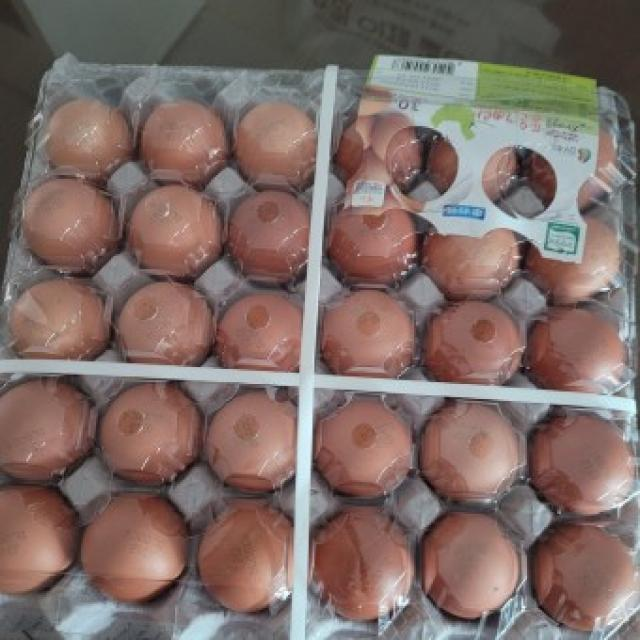eggs: (72, 486, 191, 608), (412, 503, 527, 625), (518, 520, 640, 634), (188, 500, 302, 619), (519, 410, 640, 518), (420, 396, 531, 512), (312, 392, 420, 507), (310, 512, 421, 623), (0, 376, 102, 487), (96, 386, 208, 486), (200, 391, 302, 491), (527, 304, 629, 402), (109, 274, 214, 368), (416, 297, 526, 386), (125, 185, 224, 283), (316, 284, 419, 378), (18, 177, 120, 269), (0, 476, 77, 593), (8, 276, 111, 363), (227, 187, 310, 291), (522, 215, 626, 297), (136, 98, 232, 186), (311, 198, 412, 276), (421, 218, 523, 292), (214, 290, 301, 371), (39, 98, 136, 170), (237, 102, 313, 193)
